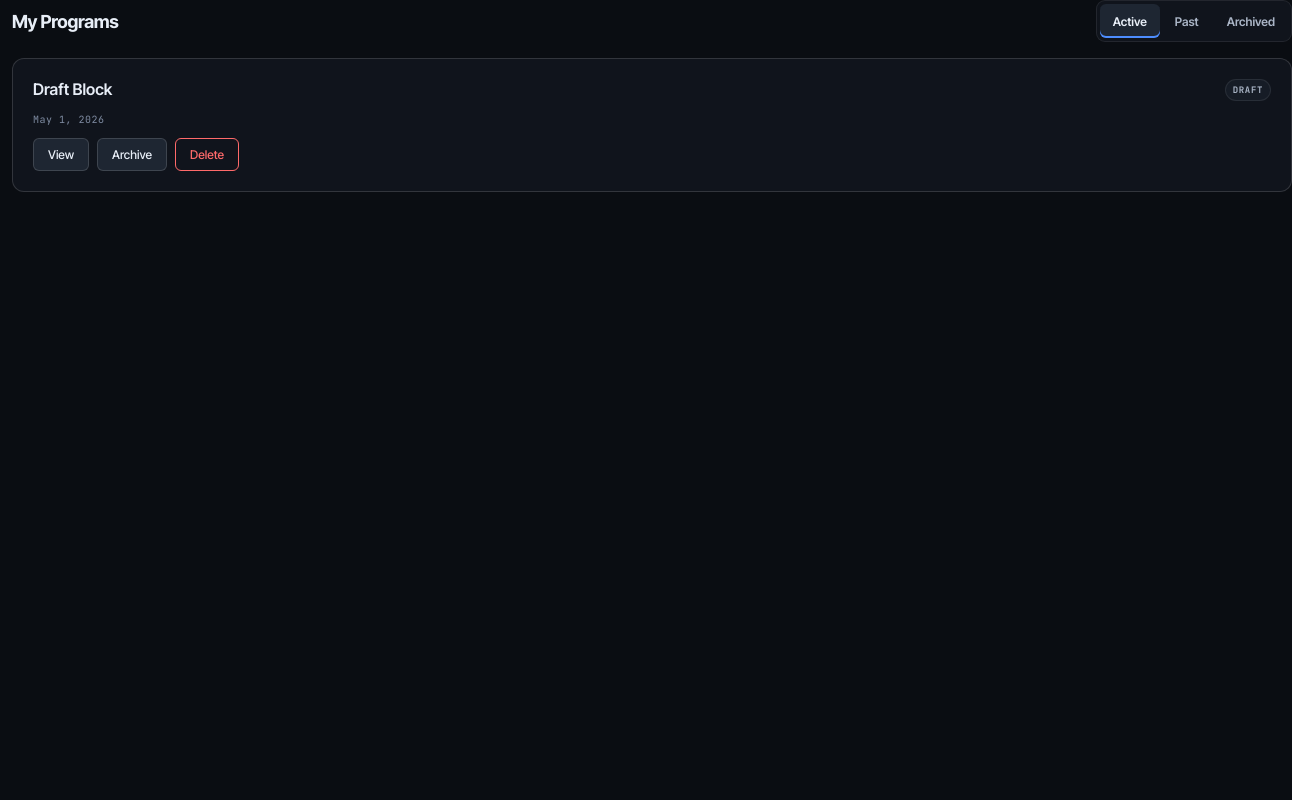
<MyLibrary> — delete / archive / restore › archive failure shows the server message, not raw JSON
This screenshot has width=1292, height=800.
Expected: the heading "Draft Block" is shown, 33,79 -> 112,99
Click the button "Archive": point(132, 154) 97,138 -> 167,171
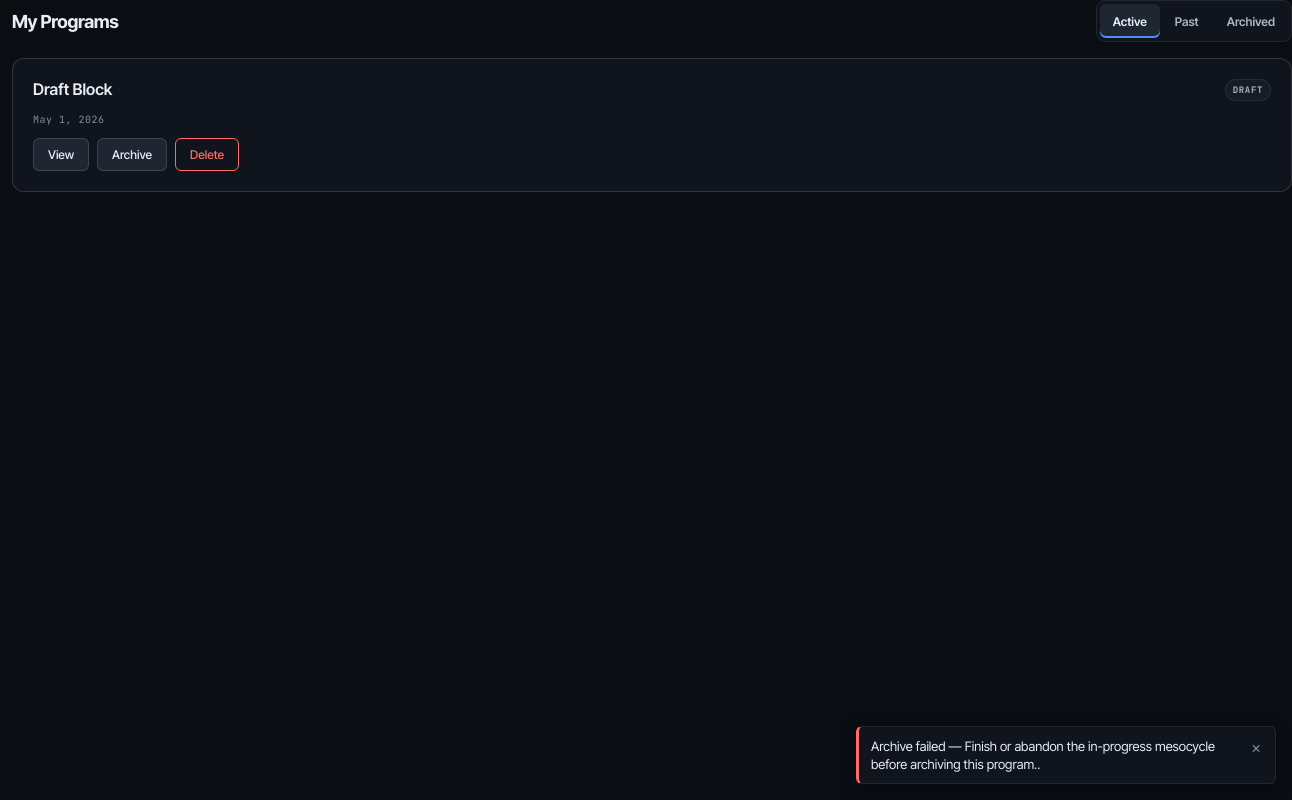
Expected: the message does not show "HTTP 409", 856,726 -> 1276,784
Now the message shows "Finish or abandon the in-progress mesocycle", box 871,738 -> 1215,772
